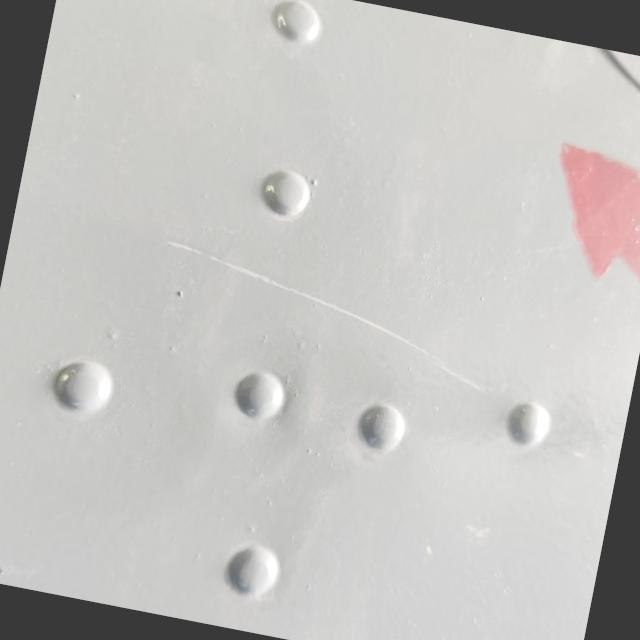scratch: (120, 210, 534, 423)
